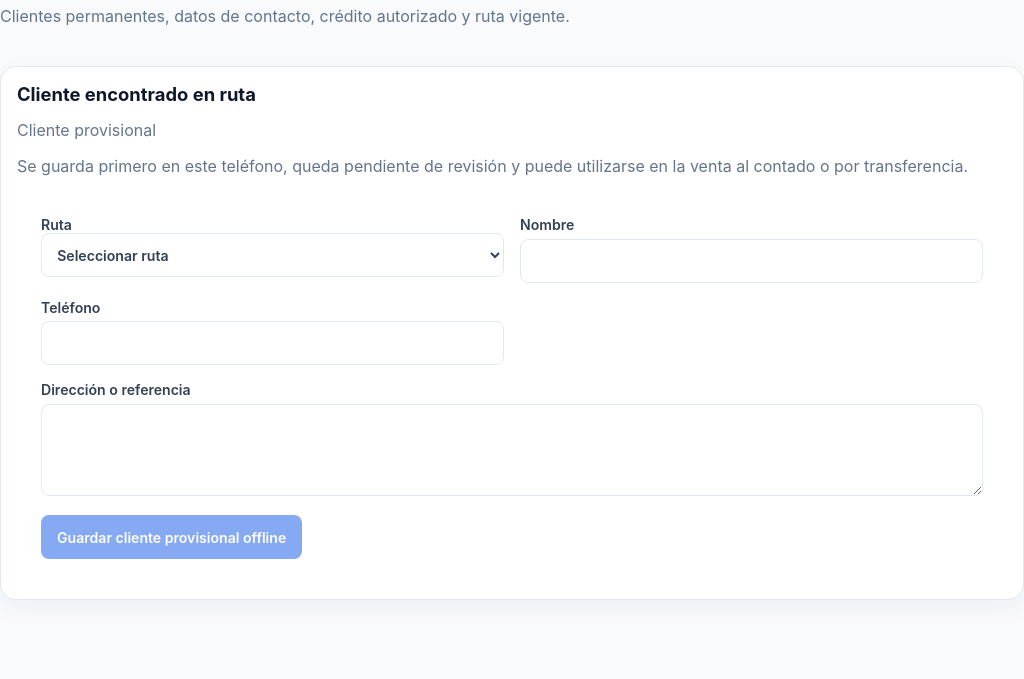
Test case: CustomersPage › permite al vendedor guardar un provisional offline desde Clientes
Select "R-01 · Ruta Centro" in the dropdown labelled "Ruta" at (272, 255), box x1=41 y1=233 x2=504 y2=277
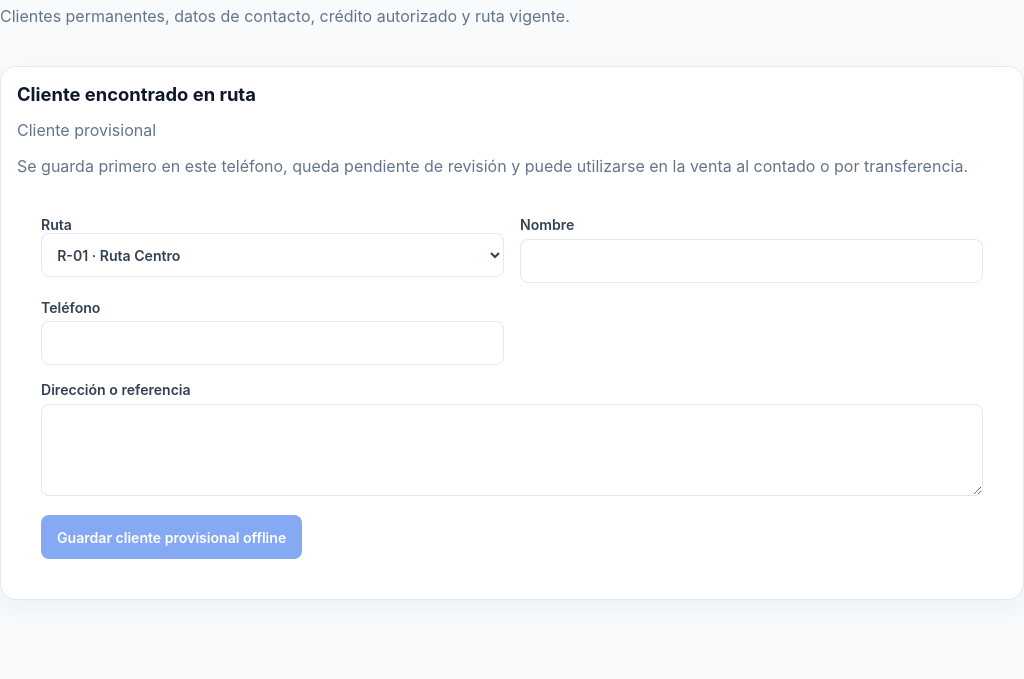
Type "Tienda Offline" into the field labelled "Nombre".
click(752, 261); type("Tienda Offline")  # box x1=520 y1=239 x2=983 y2=283
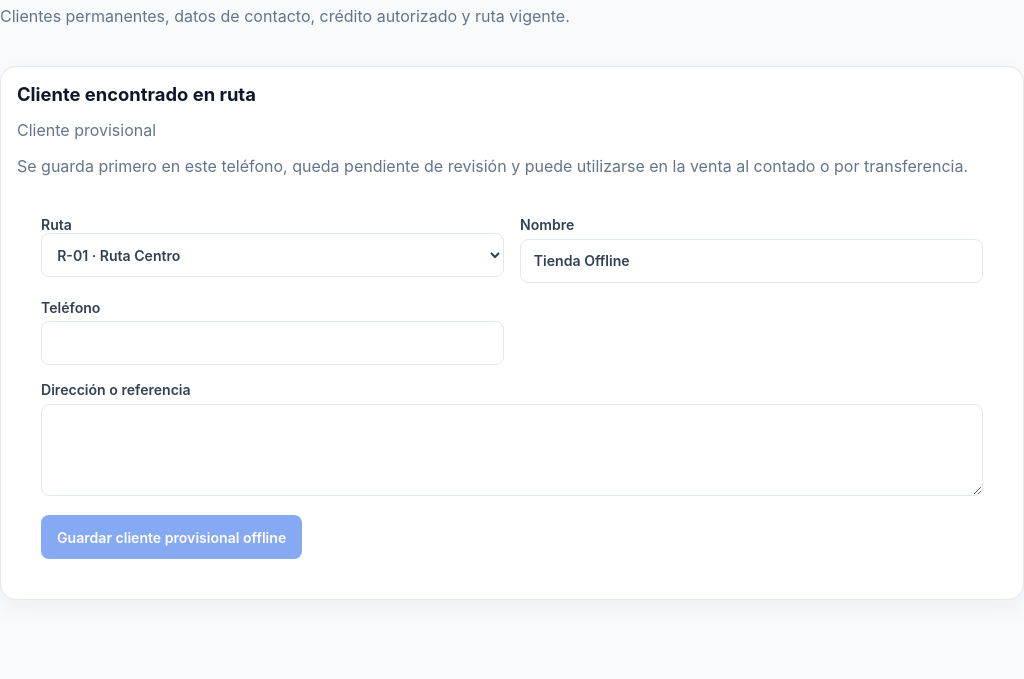
Type "Frente al mercado" into the text box labelled "Dirección o referencia".
click(512, 450); type("Frente al mercado")  # box x1=41 y1=404 x2=983 y2=496
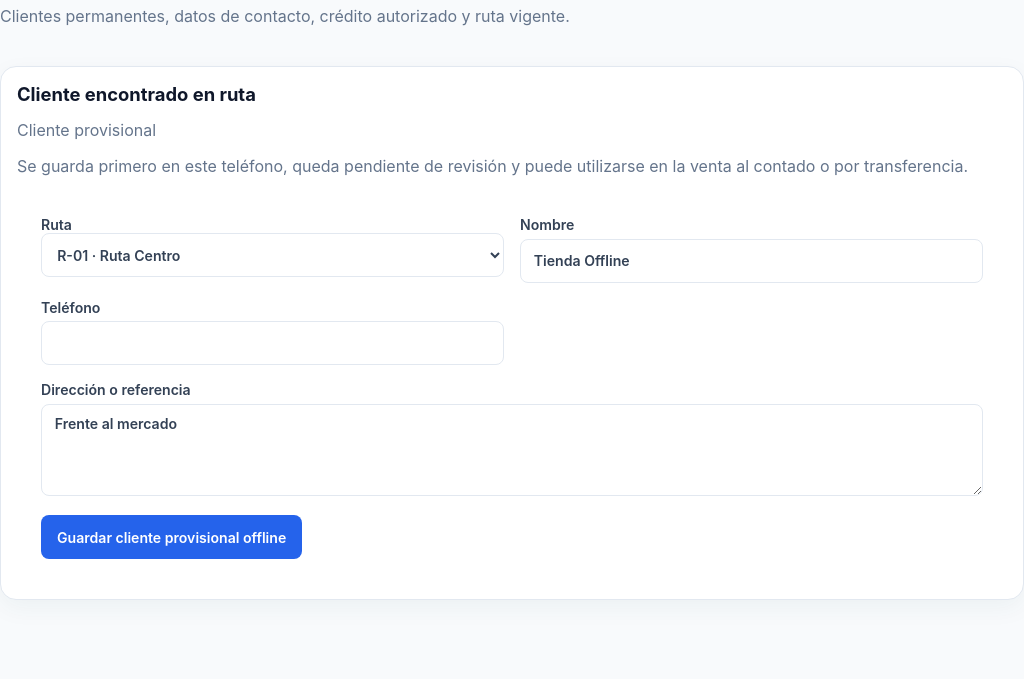
Click the button "Guardar cliente provisional offline".
click(172, 537)  # box x1=41 y1=515 x2=302 y2=559
(page scrolled)
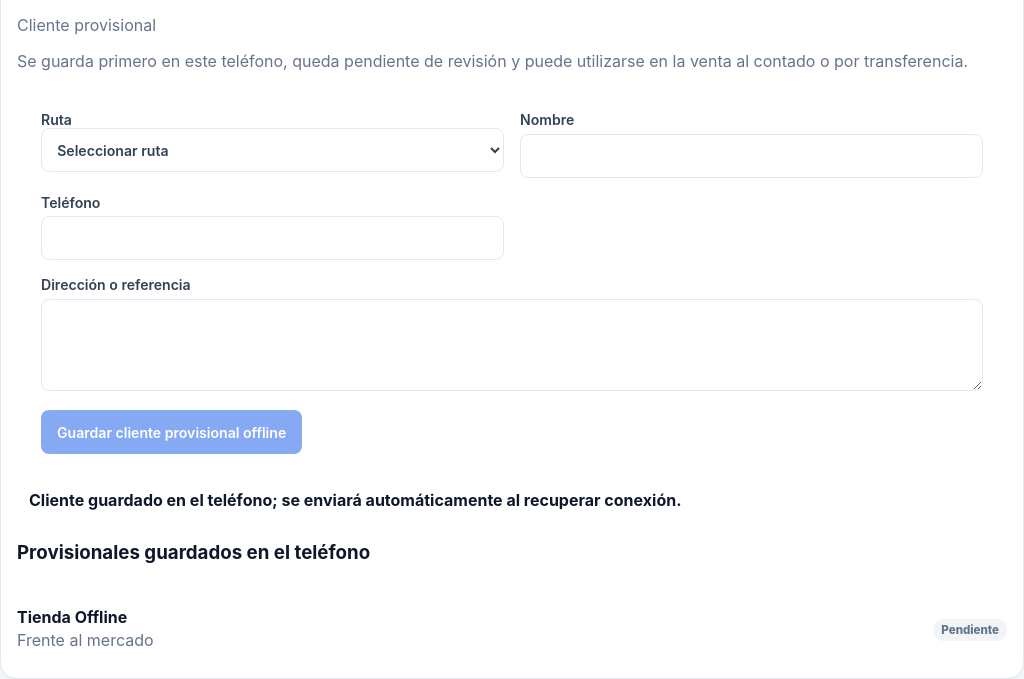
Expected: the text "guardado en el teléfono" is shown, x1=29 y1=490 x2=682 y2=510
Expected: the text "Tienda Offline" is shown, x1=17 y1=606 x2=127 y2=626
